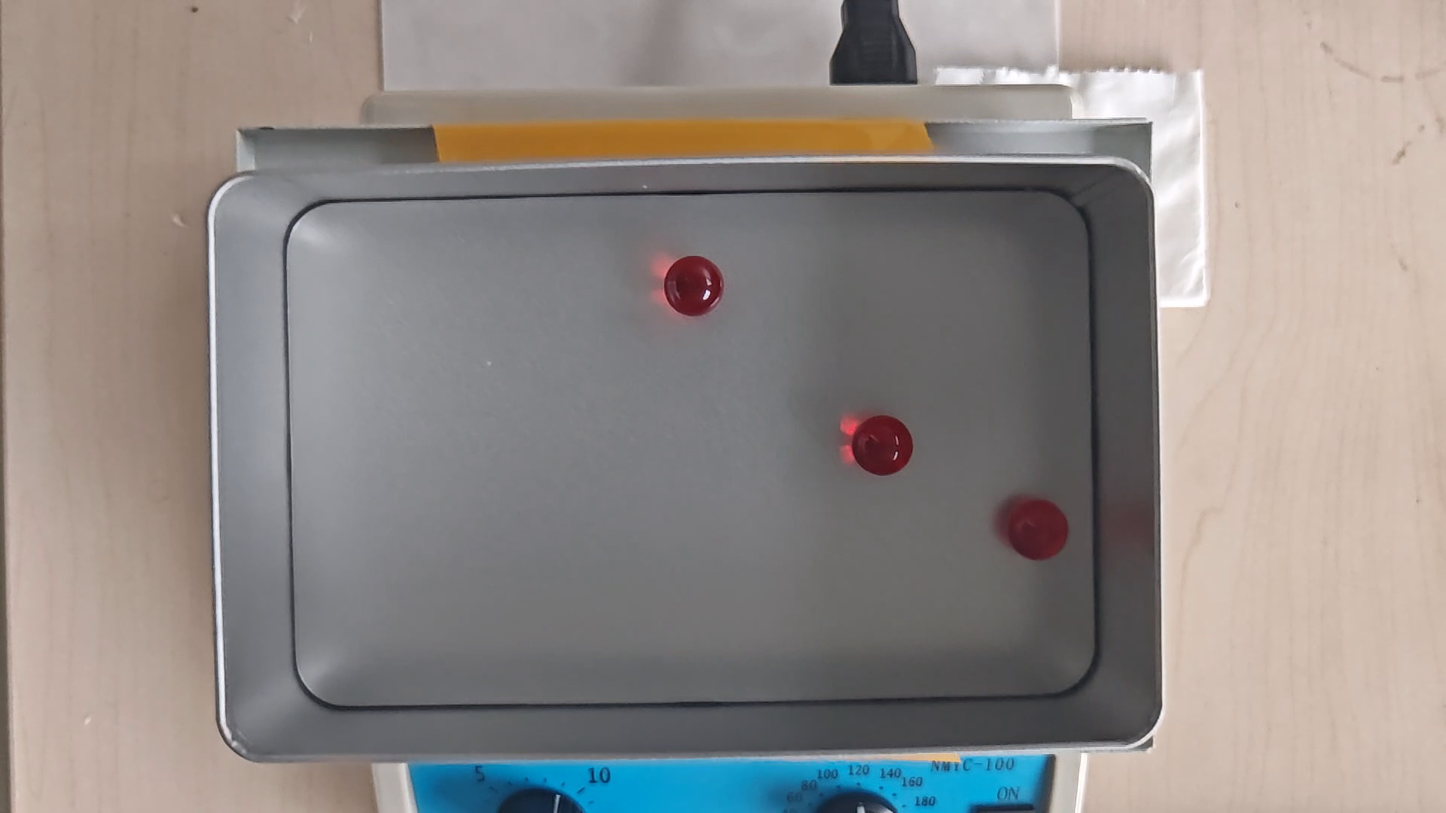ball: (852, 413, 914, 477), (665, 255, 723, 318), (1009, 501, 1068, 559)
container: (283, 198, 1102, 703)
